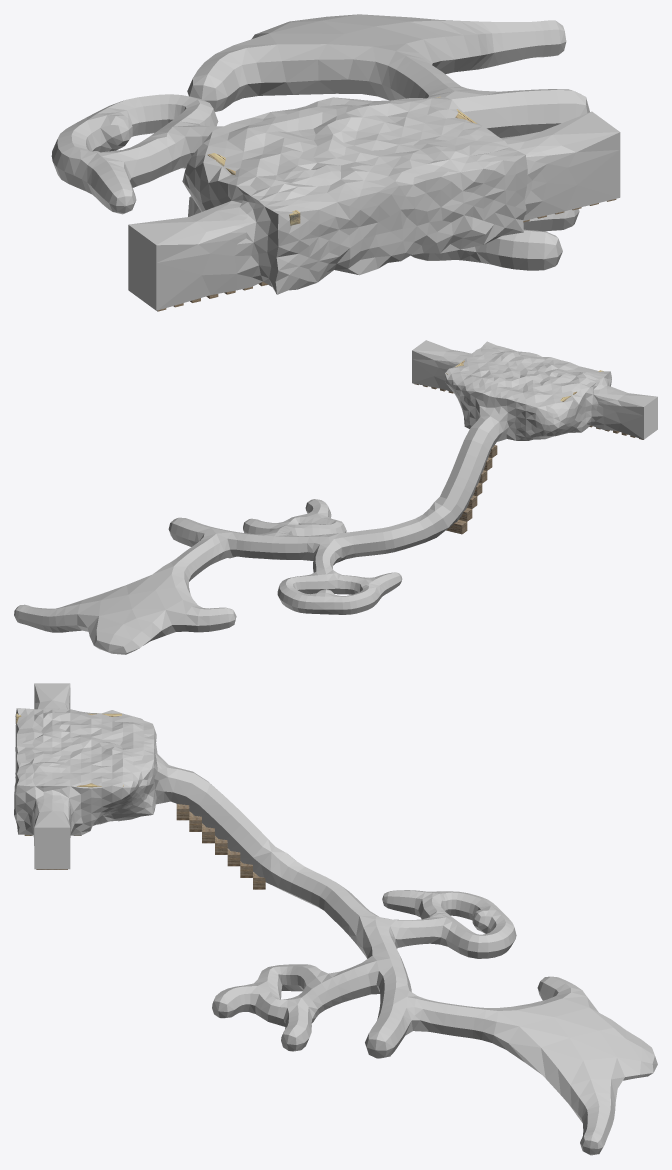
File: Mine2 Version 1.fbx
3 renders of one model, top to bottom at view 1: azimuth 30°, elevation 25°; view 2: azimuth 150°, elevation 25°; view 3: azimuth 270°, elevation 25°, orthographic. The views are drawn at different scales.
Visible parts, largest first — view 1: Cave; view 2: Cave, Stair; view 3: Cave, Stair.
Boxes of the visible parts, x1,y1,x2,y2 form: Cave: [51, 14, 620, 310]; Cave: [14, 340, 657, 654]; Stair: [446, 445, 497, 534]; Cave: [14, 683, 657, 1155]; Stair: [176, 804, 265, 889].
Size of the model in its own units: 3908 by 1569 by 4051.
